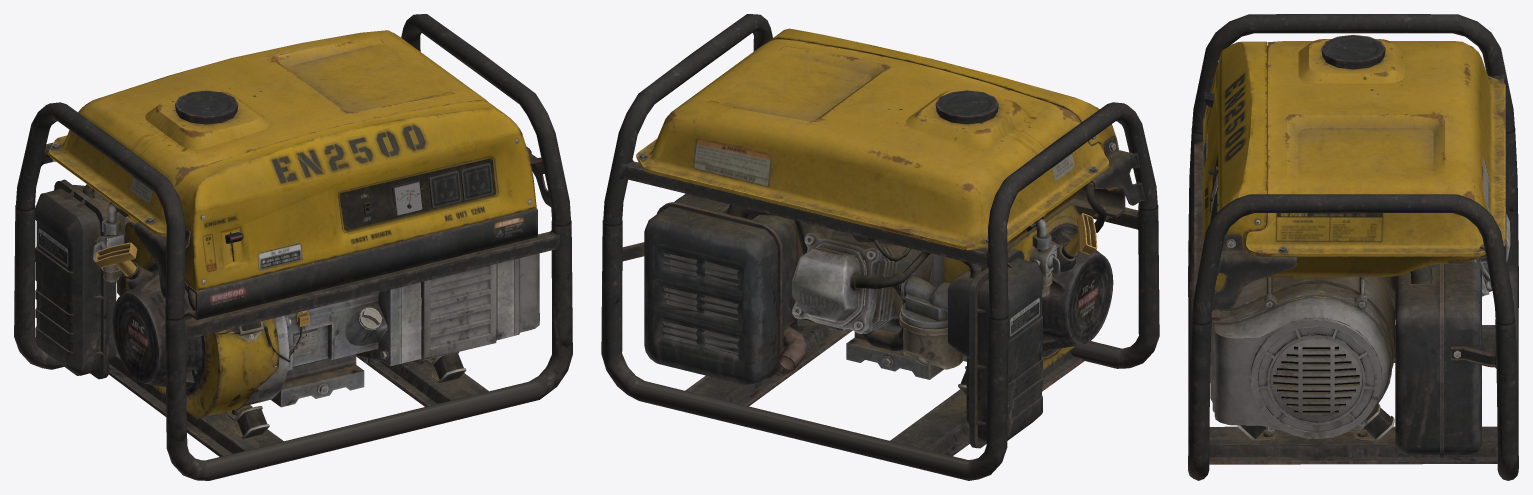
Rendered from portable_generator.glb.
3 views of the same model, side by side, from view 1: azimuth 30°, elevation 25°; view 2: azimuth 150°, elevation 25°; view 3: azimuth 270°, elevation 25° (orthographic).
Parts seen in each view (by area): view 1: portable_generator; view 2: portable_generator; view 3: portable_generator.
Boxes of the visible parts, x1,y1,x2,y2 form: portable_generator: [14, 14, 572, 480]; portable_generator: [601, 14, 1159, 480]; portable_generator: [1188, 14, 1518, 480].
Bounding box in the file's own units: 0.8182 × 0.5766 × 0.5642.
Materials: 2 (2 with a texture image).
